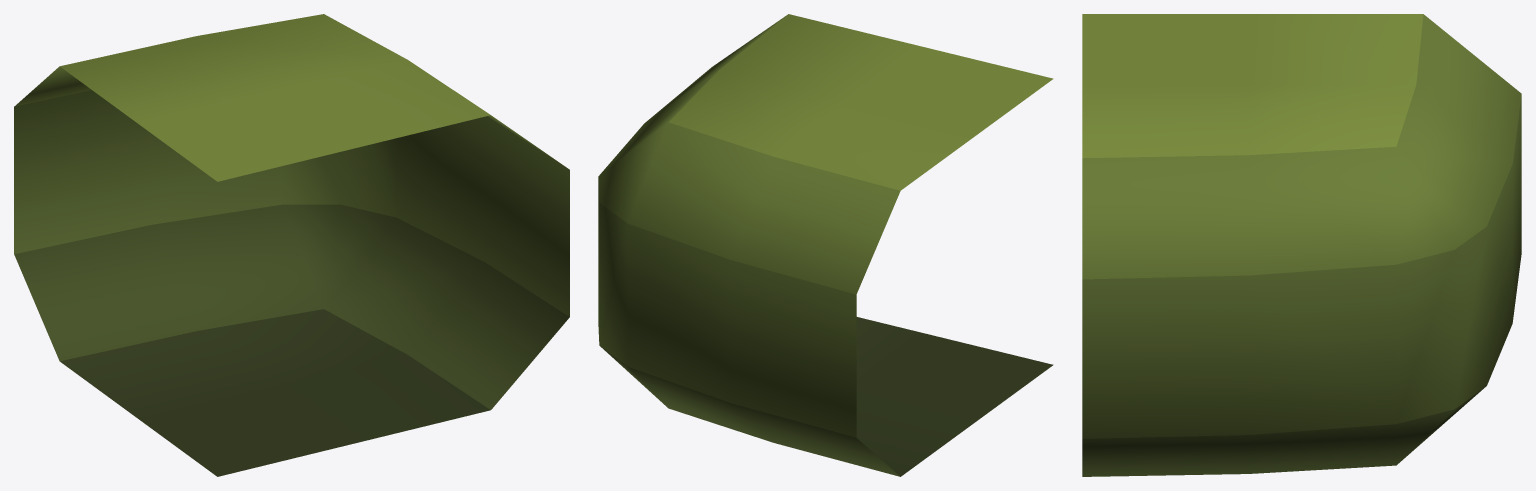
Rendered from grass_top_1x1_corner_back_right.fbx.
3 renders of one model, left to right at view 1: azimuth 30°, elevation 25°; view 2: azimuth 150°, elevation 25°; view 3: azimuth 270°, elevation 25°, orthographic. The views are drawn at different scales.
Parts seen in each view (by area): view 1: grass_top_1x1_corner_back_right; view 2: grass_top_1x1_corner_back_right; view 3: grass_top_1x1_corner_back_right.
Boxes of the visible parts, x1,y1,x2,y2 form: grass_top_1x1_corner_back_right: [14, 14, 569, 476]; grass_top_1x1_corner_back_right: [598, 14, 1053, 476]; grass_top_1x1_corner_back_right: [1082, 14, 1521, 476].
Bounding box in the file's own units: 68.72 × 55 × 68.72.
Materials: 1 (1 with a texture image).
